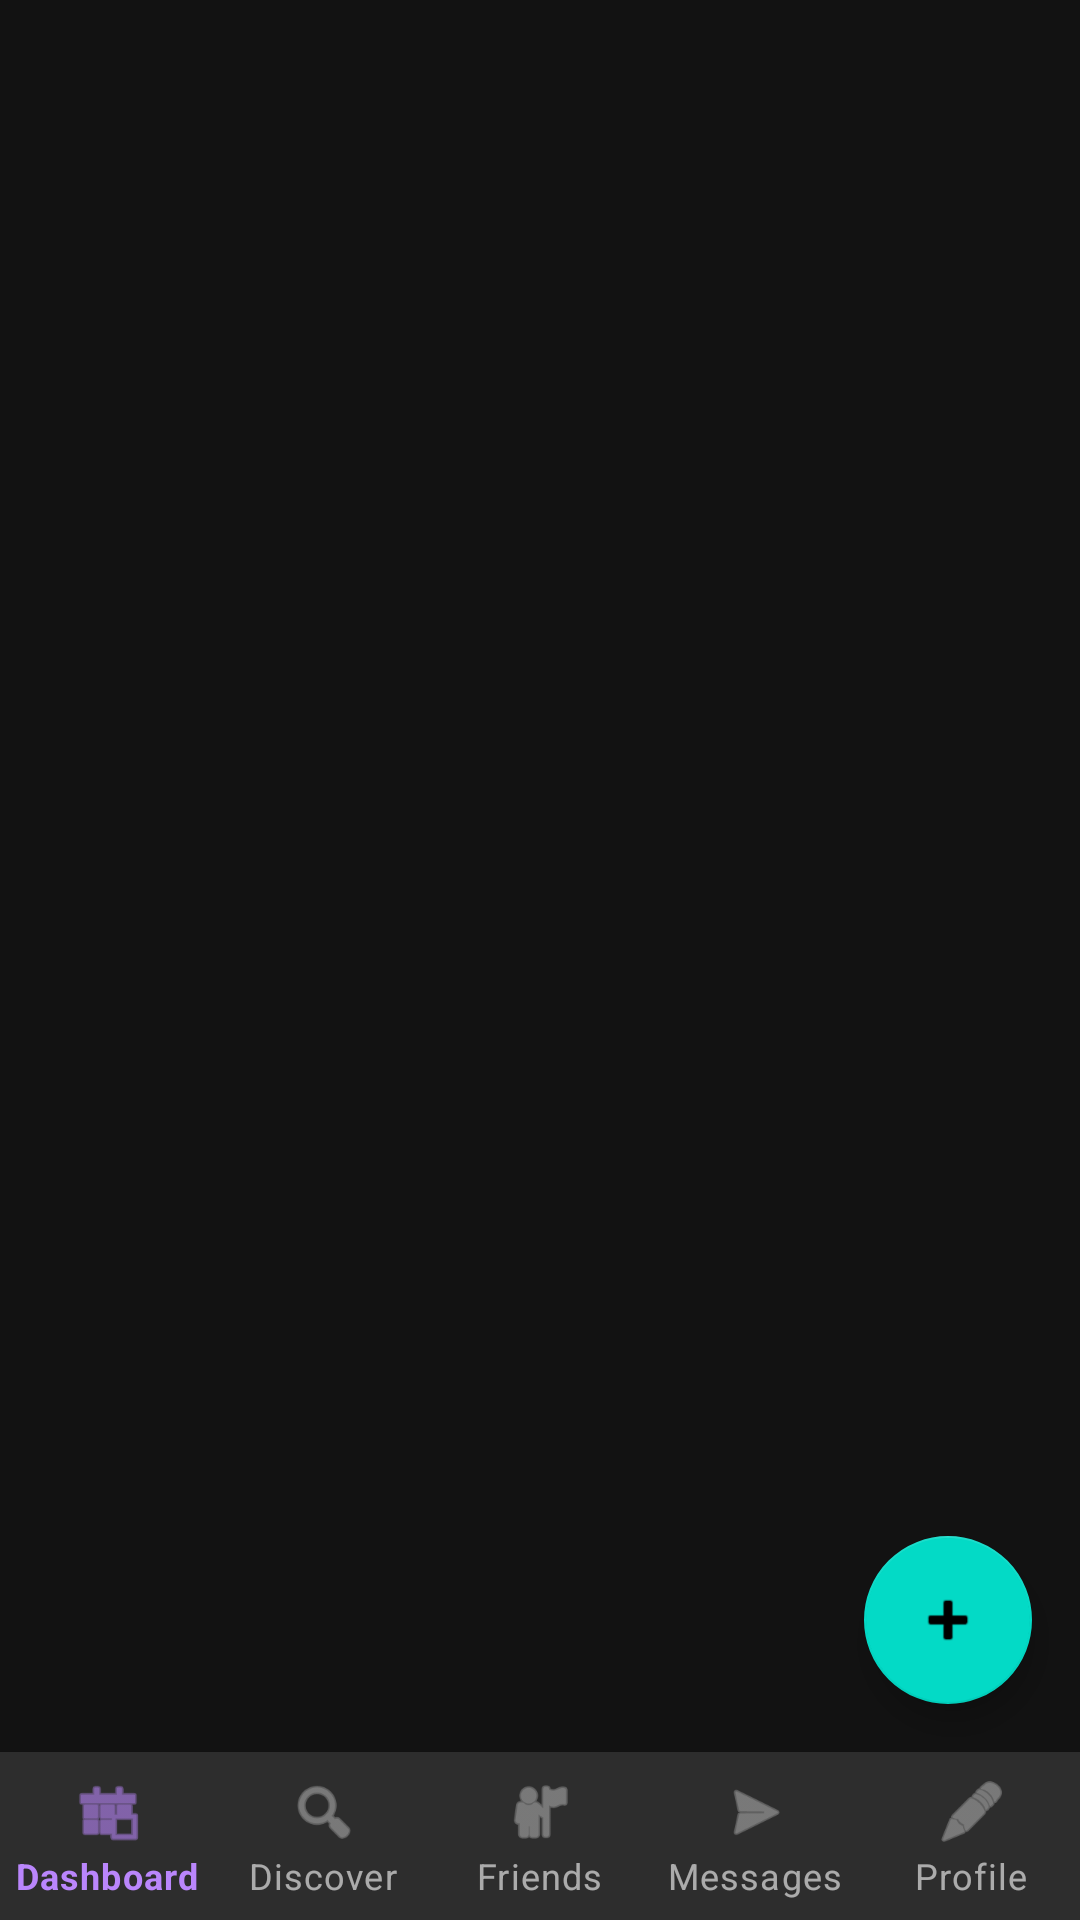

Where icons sit on this 1080x1920 app screen, as bbox=(x1, y1, x2, y2):
Create Event: bbox=(864, 1536, 1032, 1704)
